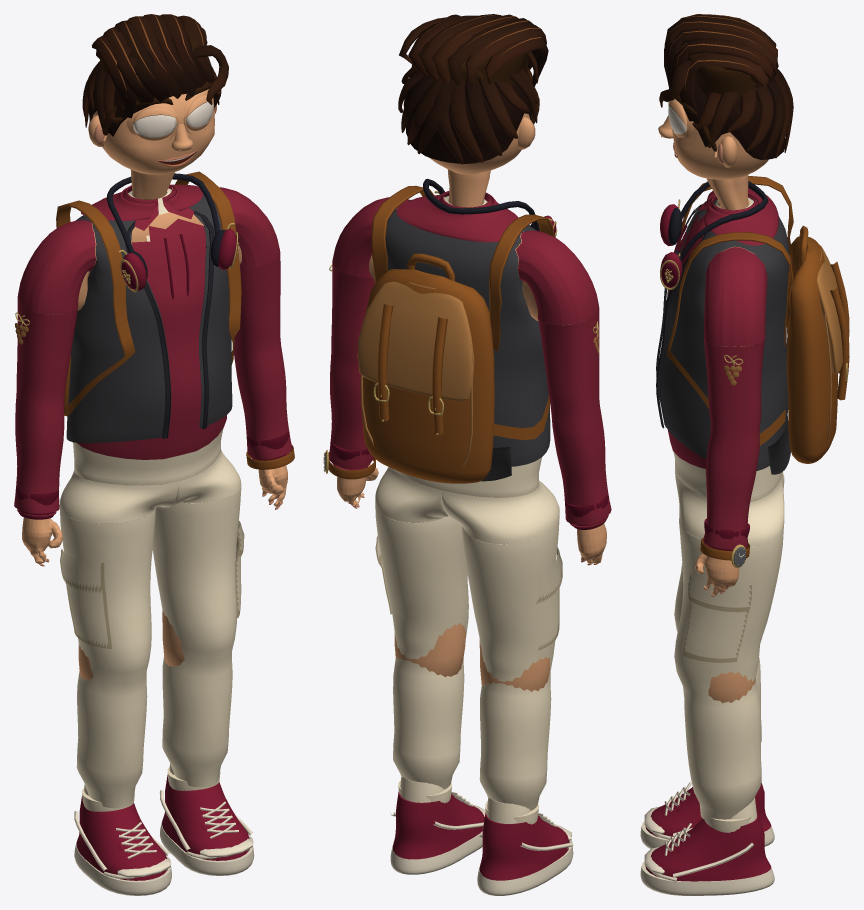
Rendered from axon-sippy-high.glb.
3 renders of one model, left to right at view 1: azimuth 30°, elevation 25°; view 2: azimuth 150°, elevation 25°; view 3: azimuth 270°, elevation 25°, orthographic.
Parts seen in each view (by area): view 1: clothes / trousers, clothes / hoodie, clothes / quilt, skin / hair, skin / skin, clothes / shoe, clothes / sole, clothes / leather, clothes / binding, clothes / cuff, clothes / pad, clothes / cargoSeam (+2 smaller); view 2: clothes / trousers, clothes / hoodie, clothes / leather, skin / hair (×2), clothes / quilt, clothes / saddleEdge, clothes / shoe, skin / skin, clothes / sole, clothes / shirt, clothes / pad, clothes / cuff; view 3: clothes / trousers, clothes / hoodie, skin / hair (×2), clothes / quilt, clothes / leather, clothes / shoe, skin / skin, clothes / sole, clothes / saddleEdge, clothes / pad, clothes / binding, clothes / cargoSeam (+3 smaller).
Boxes of the visible parts, left/top/right/bottom form: clothes / trousers: left=59, top=428, right=244, bottom=811; clothes / hoodie: left=14, top=184, right=292, bottom=516; clothes / quilt: left=66, top=192, right=232, bottom=443; skin / hair: left=82, top=14, right=228, bottom=136; skin / skin: left=22, top=89, right=287, bottom=680; clothes / shoe: left=76, top=228, right=249, bottom=880; clothes / sole: left=74, top=790, right=254, bottom=895; clothes / leather: left=56, top=171, right=294, bottom=469; clothes / binding: left=125, top=210, right=214, bottom=438; clothes / cuff: left=15, top=234, right=289, bottom=519; clothes / pad: left=106, top=173, right=225, bottom=278; clothes / cargoSeam: left=60, top=530, right=243, bottom=648; clothes / trousers: left=375, top=457, right=562, bottom=824; clothes / hoodie: left=329, top=191, right=611, bottom=528; clothes / leather: left=328, top=185, right=554, bottom=483; skin / hair (×2): left=398, top=14, right=548, bottom=164; clothes / quilt: left=385, top=199, right=550, bottom=481; clothes / saddleEdge: left=357, top=281, right=599, bottom=468; clothes / shoe: left=392, top=196, right=569, bottom=880; skin / skin: left=337, top=101, right=606, bottom=691; clothes / sole: left=390, top=792, right=573, bottom=895; clothes / shirt: left=323, top=196, right=530, bottom=823; clothes / pad: left=423, top=178, right=539, bottom=231; clothes / cuff: left=330, top=224, right=608, bottom=529; clothes / trousers: left=673, top=451, right=784, bottom=832; clothes / hoodie: left=663, top=188, right=778, bottom=549; skin / hair (×2): left=659, top=14, right=793, bottom=159; clothes / quilt: left=659, top=198, right=790, bottom=474; clothes / leather: left=667, top=176, right=849, bottom=560; clothes / shoe: left=645, top=204, right=771, bottom=881; skin / skin: left=658, top=98, right=768, bottom=703; clothes / sole: left=640, top=782, right=774, bottom=895; clothes / saddleEdge: left=724, top=245, right=842, bottom=441; clothes / pad: left=668, top=181, right=768, bottom=264; clothes / binding: left=656, top=204, right=710, bottom=428; clothes / cargoSeam: left=682, top=573, right=752, bottom=662.
Bounding box in the file's own units: 0.6139 × 1.78 × 0.405.
